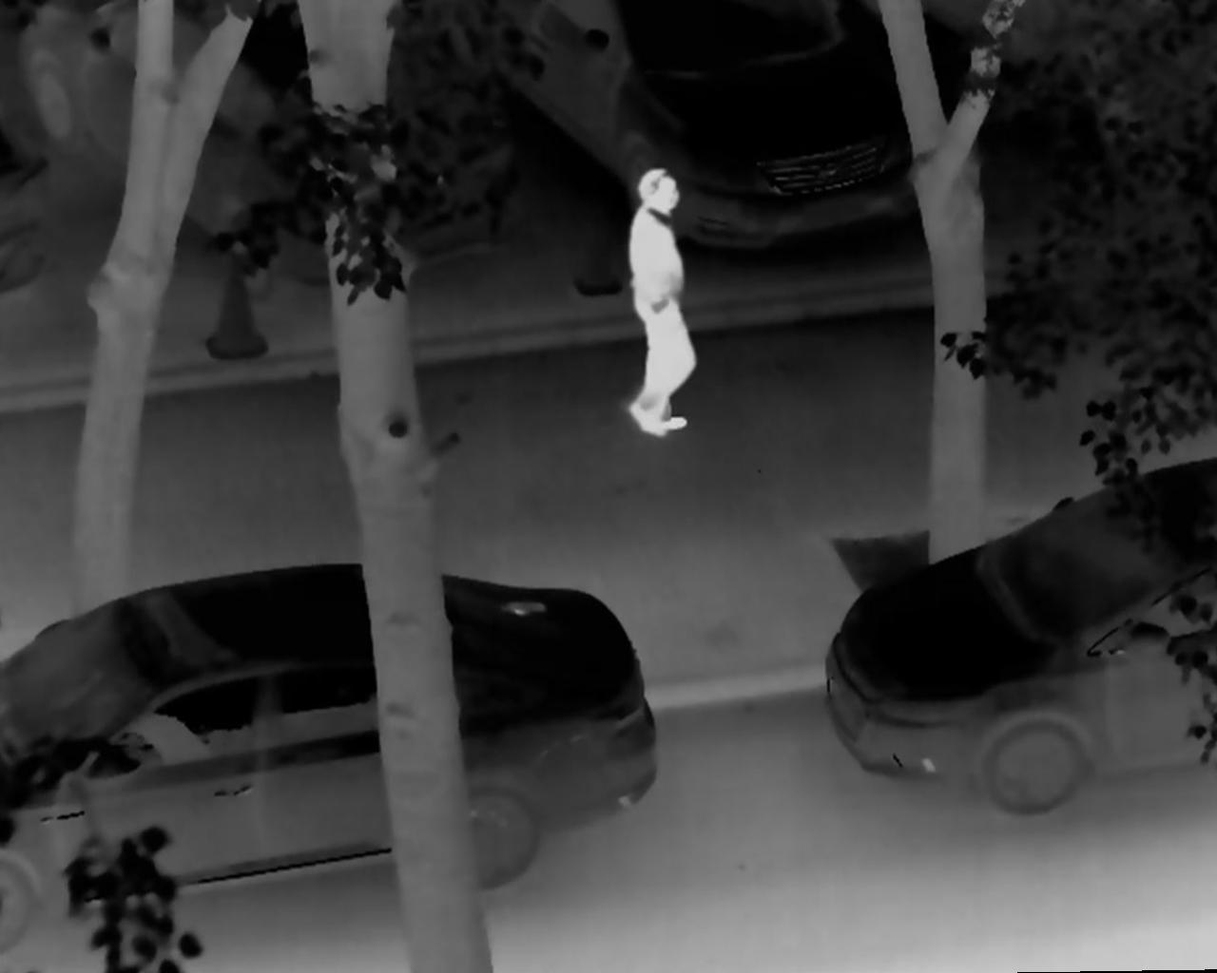person: (610, 168, 702, 442)
